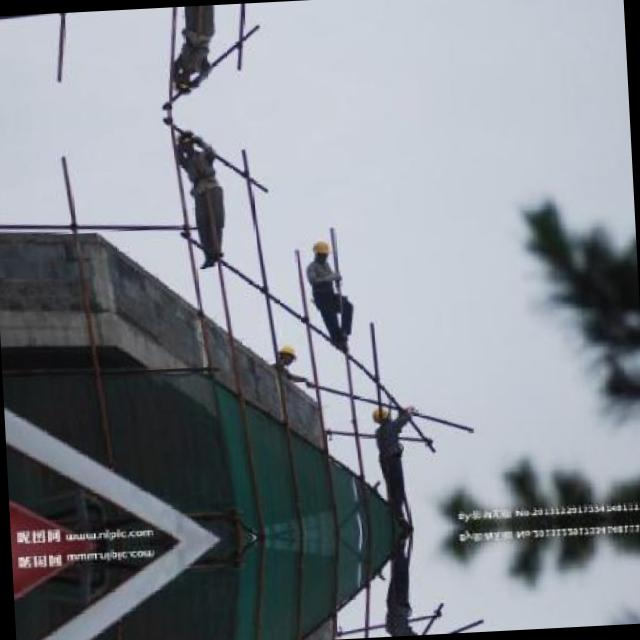helmet: (270, 342, 296, 368), (310, 234, 332, 264), (371, 404, 394, 424)
